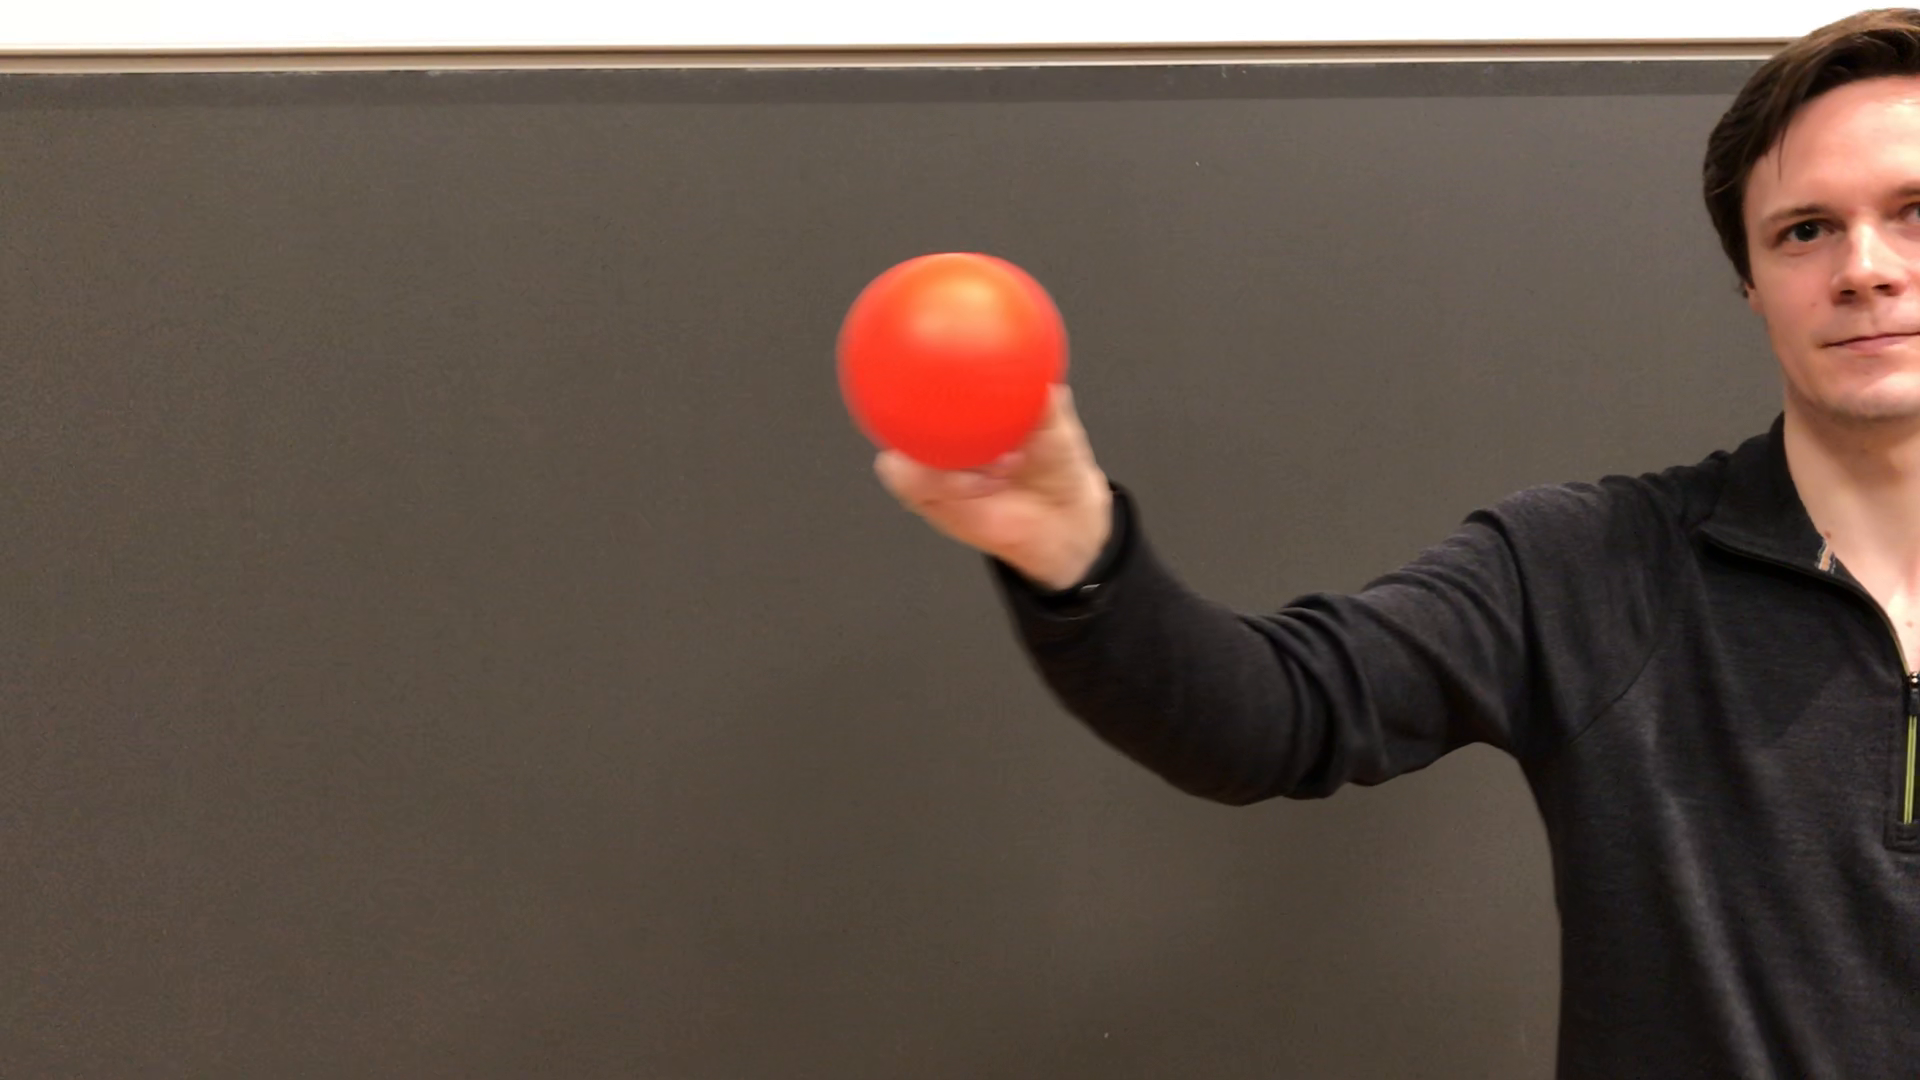Ball: (837, 251, 1073, 469)
